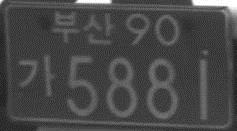0: (154, 12, 182, 49)
1: (192, 56, 213, 121)
5: (64, 53, 100, 118)
8: (143, 56, 181, 123), (105, 56, 139, 119)
9: (124, 11, 150, 46)
가: (16, 52, 57, 99)
부산_O: (49, 10, 116, 46)
